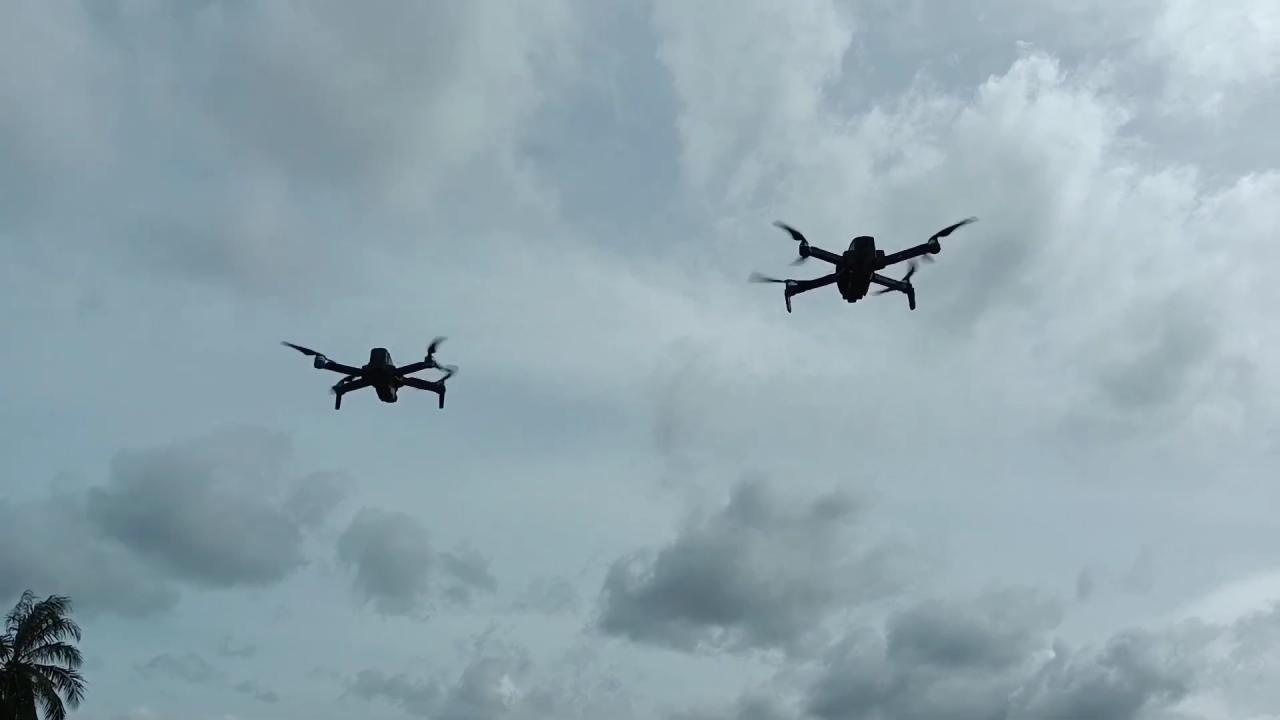Drone: (732, 199, 994, 333), (264, 317, 492, 428)
